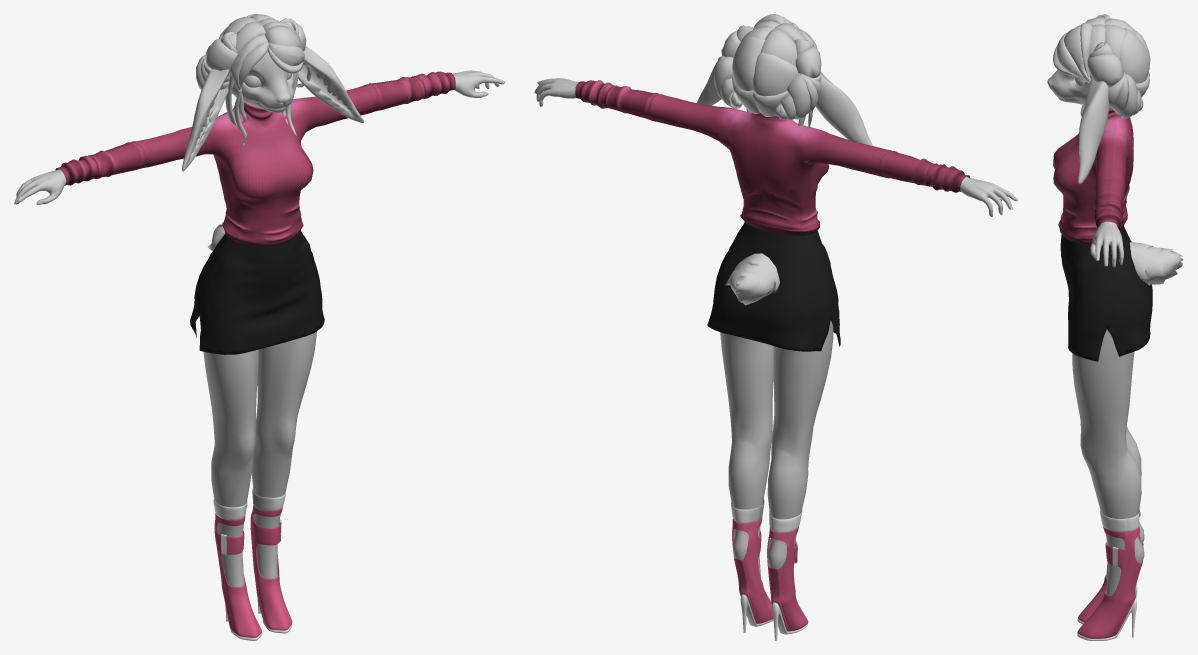
Rendered from MagentaWork.fbx.
The picture shows the model from 3 angles, left to right: view 1: azimuth 30°, elevation 25°; view 2: azimuth 150°, elevation 25°; view 3: azimuth 270°, elevation 25°; orthographic projection.
Visible parts, largest first — view 1: prim0.002, prim9, prim0.007, prim53, prim0.006, prim0.005, prim13.001, prim0.003, prim0.001, prim56; view 2: prim0.002, prim9, prim0.007, prim56, prim53, prim0.005, prim0.006, prim0.003, prim0.011; view 3: prim9, prim0.007, prim0.002, prim0.006, prim56, prim53, prim0.001, prim0.011, prim13.001, prim0.005.
Part boxes in pixels (x1,y1,x2,y2): prim0.002: [55, 71, 455, 246]; prim9: [16, 70, 504, 586]; prim0.007: [190, 230, 324, 354]; prim53: [196, 18, 312, 145]; prim0.006: [250, 488, 292, 633]; prim0.005: [213, 499, 262, 640]; prim13.001: [229, 51, 293, 112]; prim0.003: [182, 69, 231, 171]; prim0.001: [298, 46, 364, 122]; prim56: [219, 14, 304, 73]; prim0.002: [575, 80, 969, 236]; prim9: [535, 78, 1017, 579]; prim0.007: [707, 222, 840, 351]; prim56: [732, 14, 807, 116]; prim53: [714, 17, 821, 126]; prim0.005: [767, 509, 808, 640]; prim0.006: [731, 499, 773, 632]; prim0.003: [815, 71, 873, 145]; prim0.011: [725, 253, 779, 305]; prim9: [1072, 221, 1144, 595]; prim0.007: [1060, 225, 1152, 361]; prim0.002: [1053, 107, 1133, 244]; prim0.006: [1077, 511, 1142, 640]; prim56: [1053, 17, 1150, 97]; prim53: [1064, 14, 1143, 118]; prim0.001: [1078, 76, 1109, 184]; prim0.011: [1129, 242, 1183, 285]; prim13.001: [1047, 70, 1090, 104]; prim0.005: [1077, 509, 1143, 624].
Bounding box in the file's own units: 127 × 152 × 30.76.
